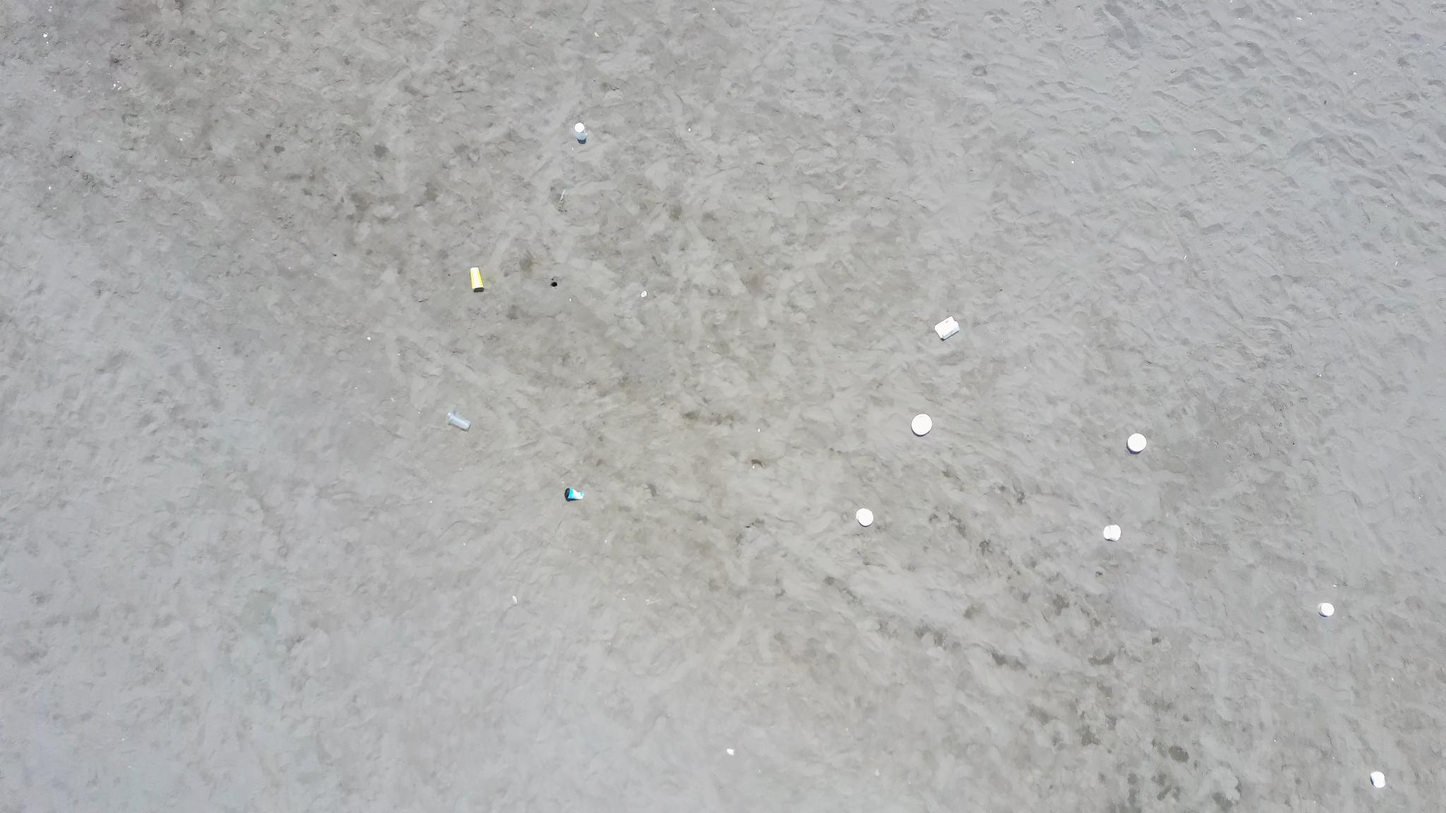Garbage: (934, 317, 959, 339), (446, 409, 470, 430), (910, 413, 931, 435), (1127, 433, 1147, 452), (573, 121, 587, 143), (1103, 524, 1120, 541), (470, 266, 481, 291), (856, 508, 871, 526), (564, 488, 584, 501), (1370, 772, 1385, 788), (1317, 601, 1332, 615), (725, 748, 733, 756), (640, 289, 645, 296)
